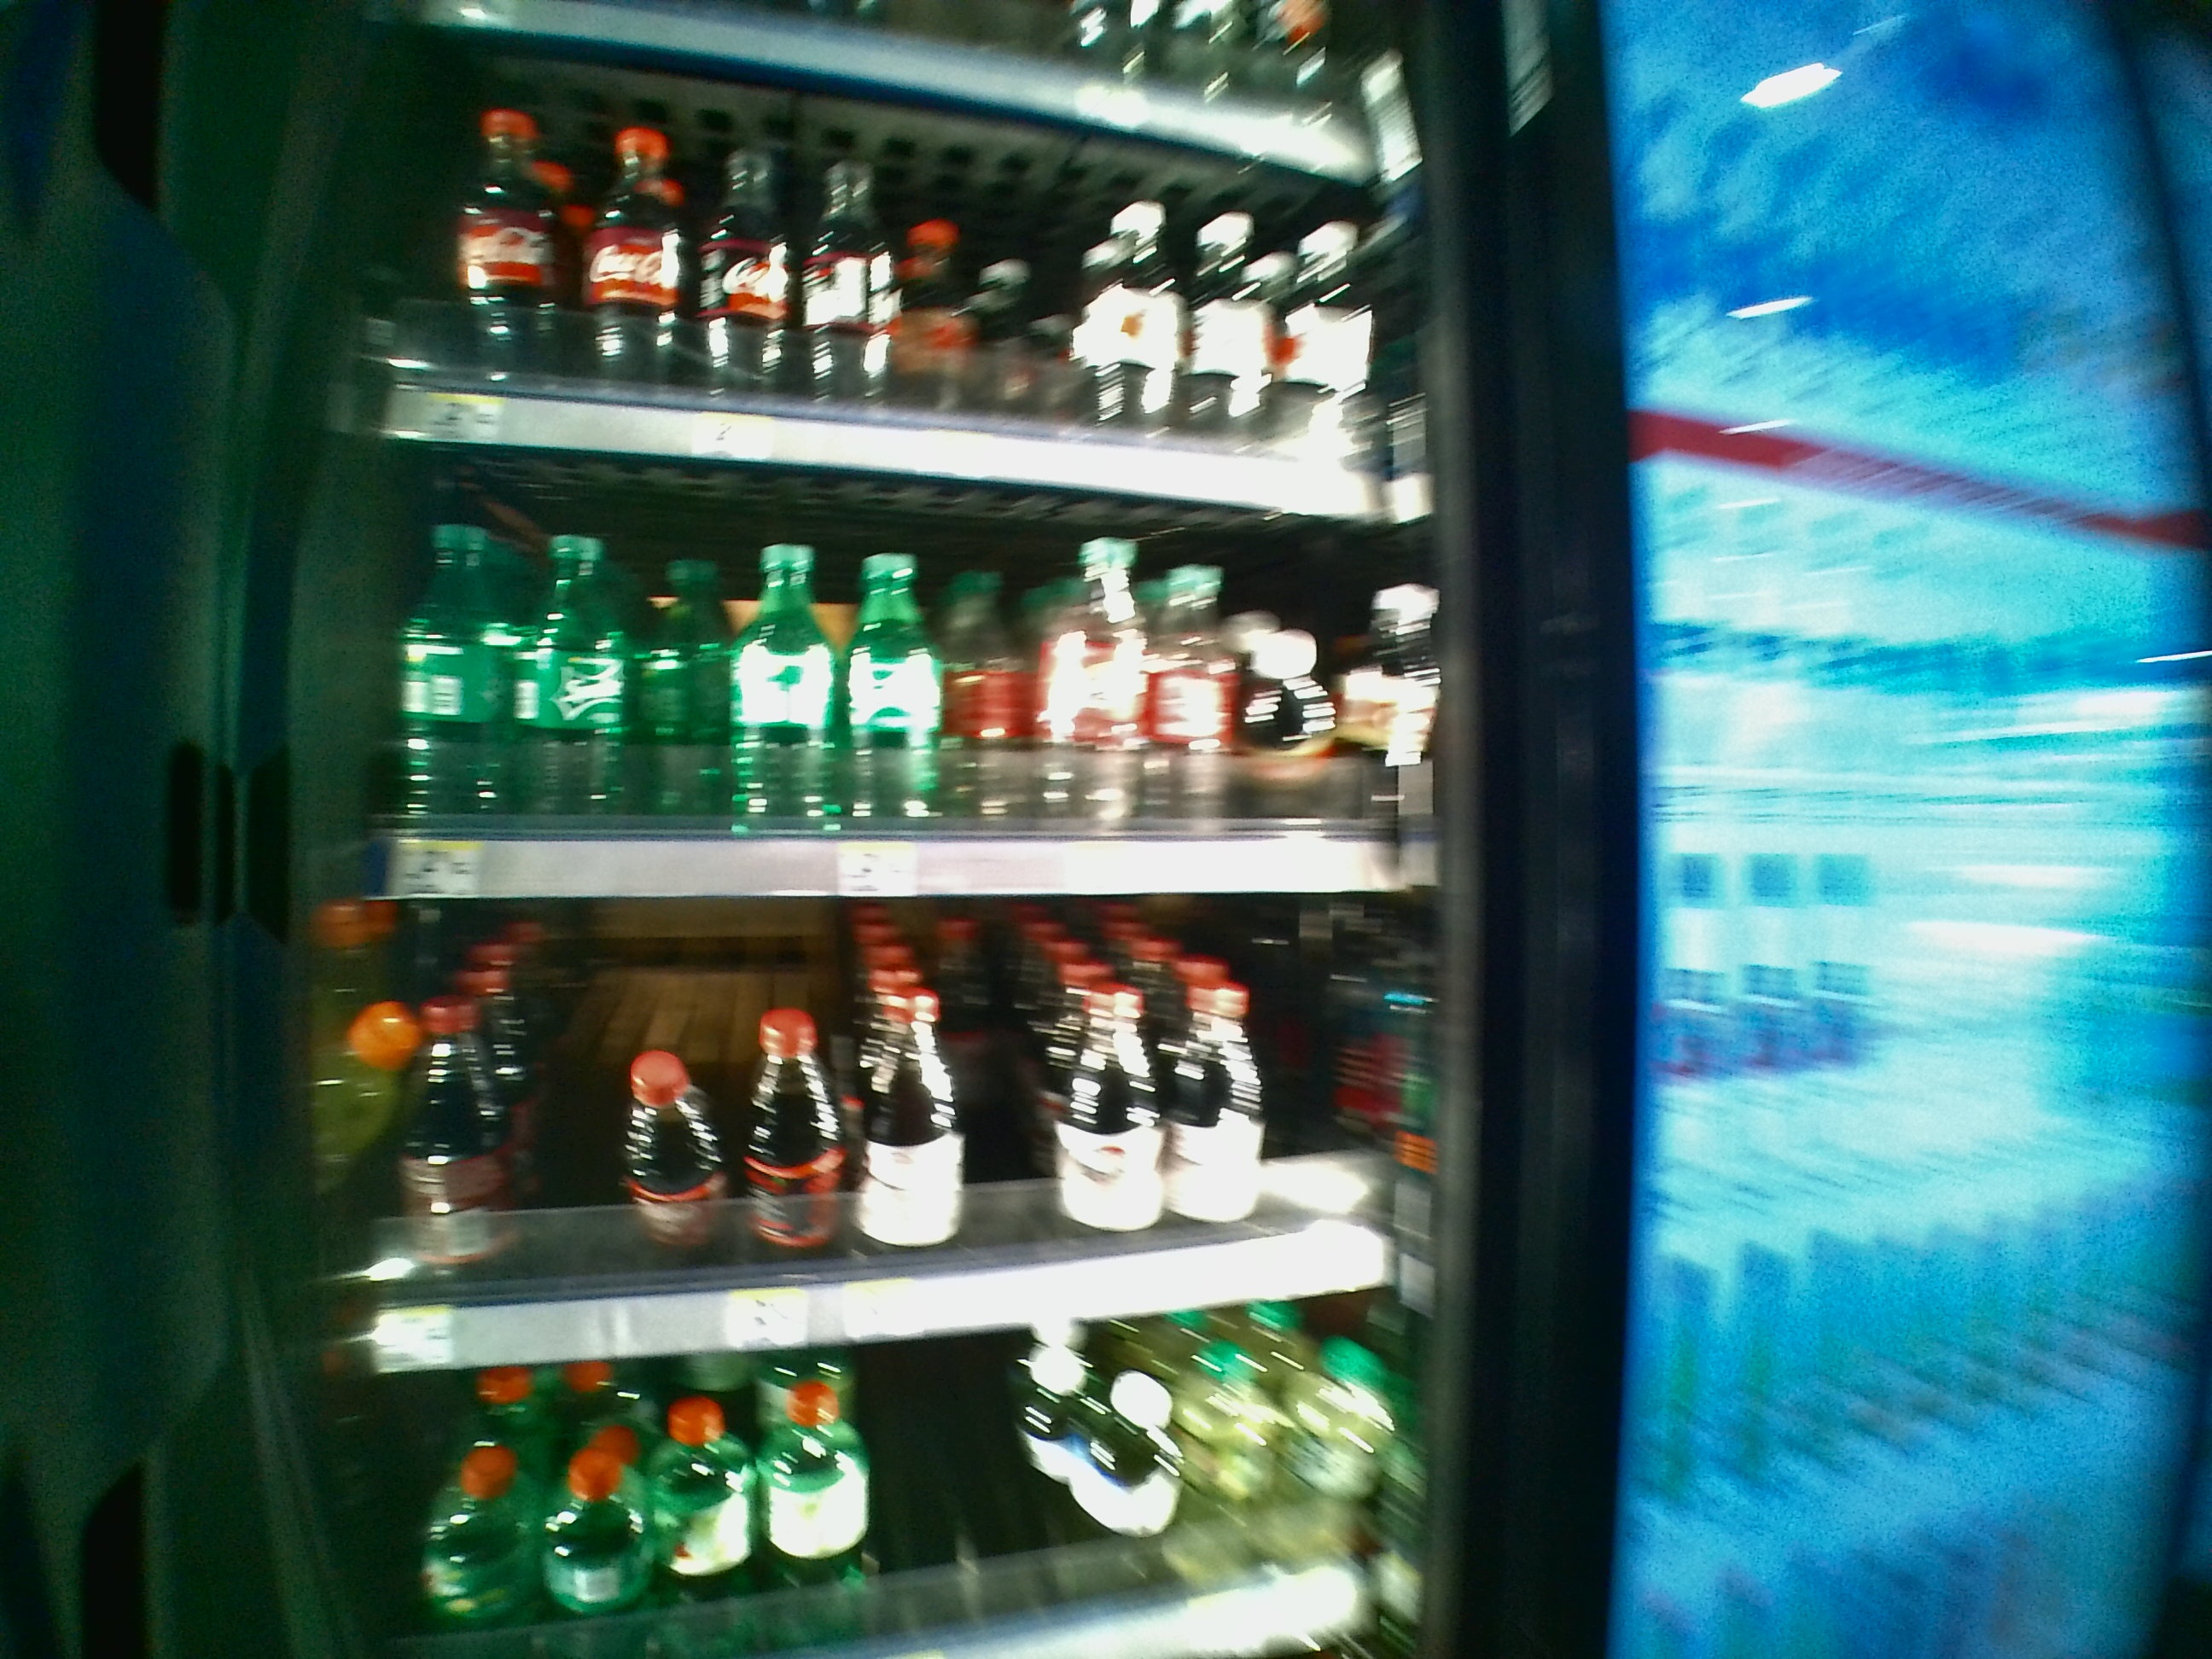shelf: (366, 910, 1458, 1368), (369, 446, 1446, 903)
